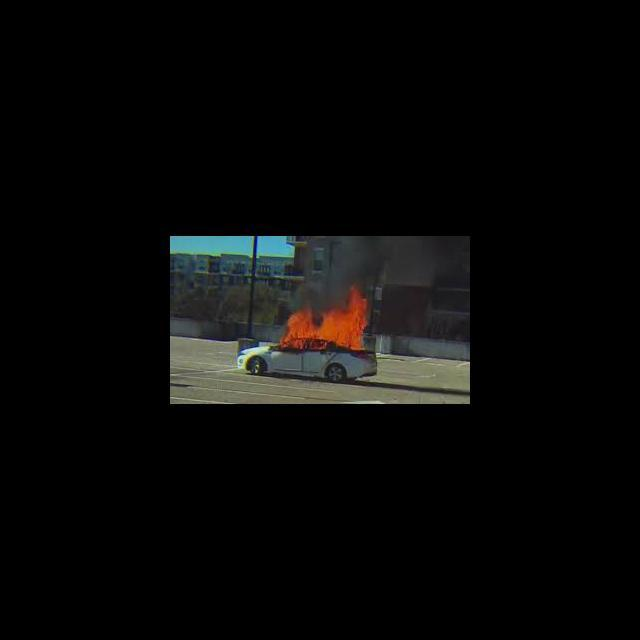Fire: (281, 283, 371, 351)
Smoke: (320, 236, 429, 282), (296, 282, 346, 305)
